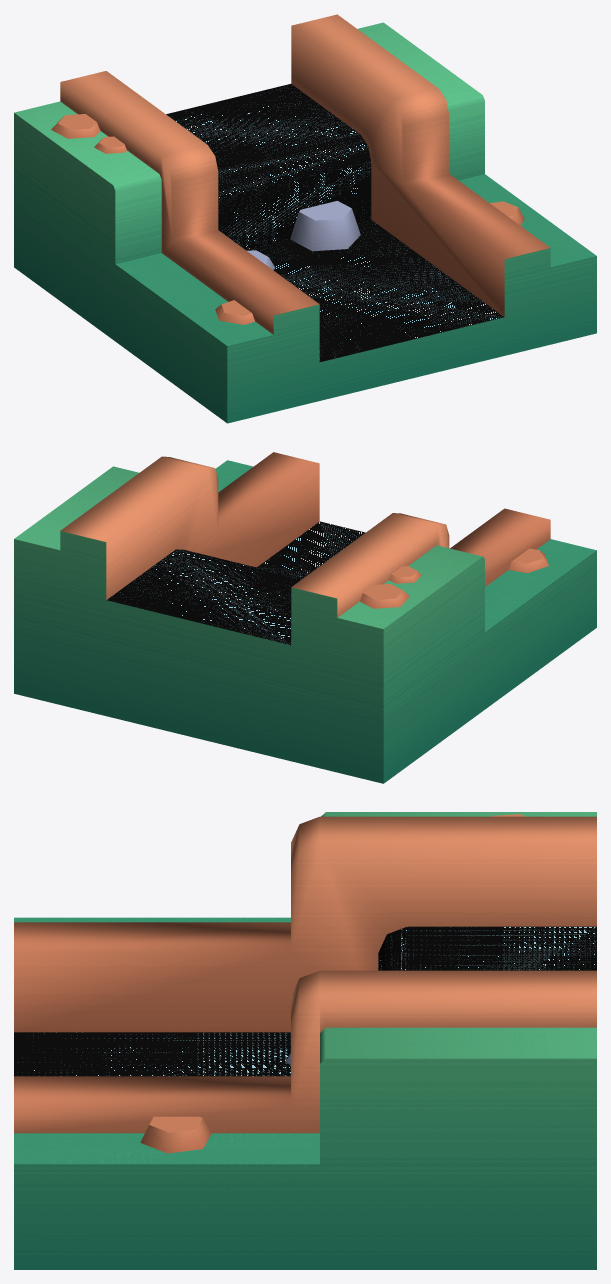
The model's file is tower-defense-kit--tile-river-waterfall.glb.
3 renders of one model, top to bottom at view 1: azimuth 30°, elevation 25°; view 2: azimuth 150°, elevation 25°; view 3: azimuth 270°, elevation 25°, orthographic. The views are drawn at different scales.
Visible parts, largest first — view 1: tile-river-waterfall; view 2: tile-river-waterfall; view 3: tile-river-waterfall.
Part boxes in pixels (x1,y1,x2,y2): tile-river-waterfall: [14, 14, 596, 423]; tile-river-waterfall: [14, 452, 596, 783]; tile-river-waterfall: [14, 812, 596, 1269].
Bounding box in the file's own units: 1 × 0.45 × 1.
1 material, 1 textured.
